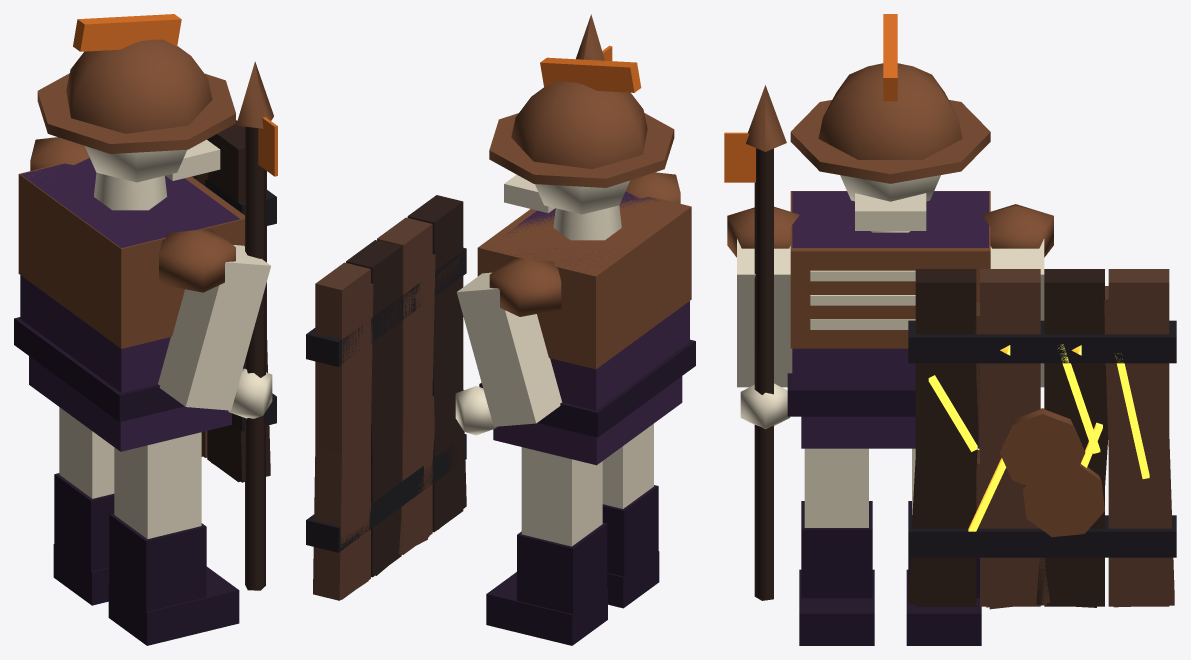
The model's file is enemy_shieldbearer.glb.
The picture shows the model from 3 angles, left to right: view 1: azimuth 30°, elevation 25°; view 2: azimuth 150°, elevation 25°; view 3: azimuth 270°, elevation 25°; orthographic projection. The views are drawn at different scales.
Visible parts, largest first — view 1: cuirass, torso, arm_r_upper, helmet, leg_r_thigh, leg_r_greave, spear_shaft, helmet_brim, pelvis, leg_r_boot, belt, leg_l_greave (+15 smaller); view 2: cuirass, shield_3_plank_0, arm_l_upper, helmet, shield_3_plank_1, shield_1_plank_0, shield_2_plank_3, leg_l_thigh, shield_2_plank_2, leg_l_greave, torso, shield_3_plank_2 (+21 smaller); view 3: shield_3_plank_3, shield_3_plank_2, shield_1_plank_0, torso, shield_3_plank_0, cuirass, shield_3_plank_1, helmet, spear_shaft, shield_3_band_0, shield_3_band_1, helmet_brim (+30 smaller).
Boxes of the visible parts, x1=… form: cuirass: x1=18, y1=163, x2=244, y2=348; torso: x1=20, y1=158, x2=239, y2=392; arm_r_upper: x1=158, y1=245, x2=270, y2=410; helmet: x1=66, y1=39, x2=212, y2=133; leg_r_thigh: x1=114, y1=432, x2=201, y2=539; leg_r_greave: x1=109, y1=513, x2=206, y2=615; spear_shaft: x1=245, y1=126, x2=265, y2=590; helmet_brim: x1=37, y1=73, x2=235, y2=153; pelvis: x1=29, y1=356, x2=231, y2=451; leg_r_boot: x1=108, y1=566, x2=239, y2=645; belt: x1=14, y1=317, x2=244, y2=421; leg_l_greave: x1=54, y1=473, x2=114, y2=575; cuirass: x1=477, y1=195, x2=691, y2=369; shield_3_plank_0: x1=315, y1=262, x2=370, y2=599; arm_l_upper: x1=456, y1=272, x2=561, y2=426; helmet: x1=511, y1=81, x2=647, y2=169; shield_3_plank_1: x1=346, y1=240, x2=401, y2=577; shield_1_plank_0: x1=313, y1=283, x2=373, y2=600; shield_2_plank_3: x1=432, y1=256, x2=466, y2=529; leg_l_thigh: x1=521, y1=447, x2=602, y2=546; shield_2_plank_2: x1=400, y1=254, x2=435, y2=555; leg_l_greave: x1=517, y1=522, x2=607, y2=615; torso: x1=495, y1=191, x2=689, y2=410; shield_3_plank_2: x1=377, y1=217, x2=432, y2=554; shield_3_plank_3: x1=915, y1=269, x2=976, y2=606; shield_3_plank_2: x1=980, y1=269, x2=1040, y2=606; shield_1_plank_0: x1=1103, y1=286, x2=1174, y2=607; torso: x1=792, y1=191, x2=988, y2=388; shield_3_plank_0: x1=1108, y1=269, x2=1169, y2=606; cuirass: x1=790, y1=191, x2=990, y2=348; shield_3_plank_1: x1=1044, y1=269, x2=1104, y2=606; helmet: x1=818, y1=63, x2=962, y2=159; spear_shaft: x1=754, y1=148, x2=773, y2=600; shield_3_band_0: x1=908, y1=320, x2=1176, y2=363; shield_3_band_1: x1=908, y1=515, x2=1176, y2=557; helmet_brim: x1=790, y1=100, x2=990, y2=183.
Bounding box in the file's own units: 0.157 × 0.3574 × 0.253.
